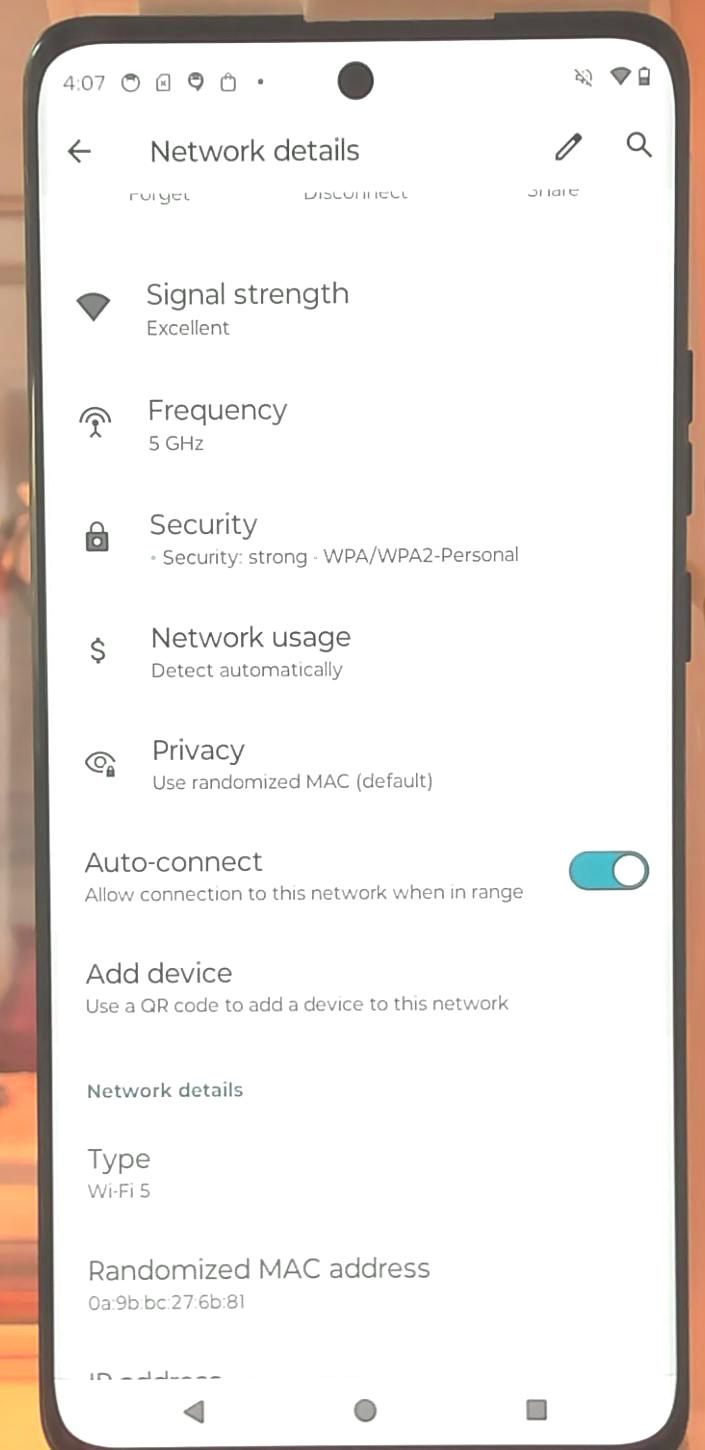Checkbox: (63, 825, 657, 915)
